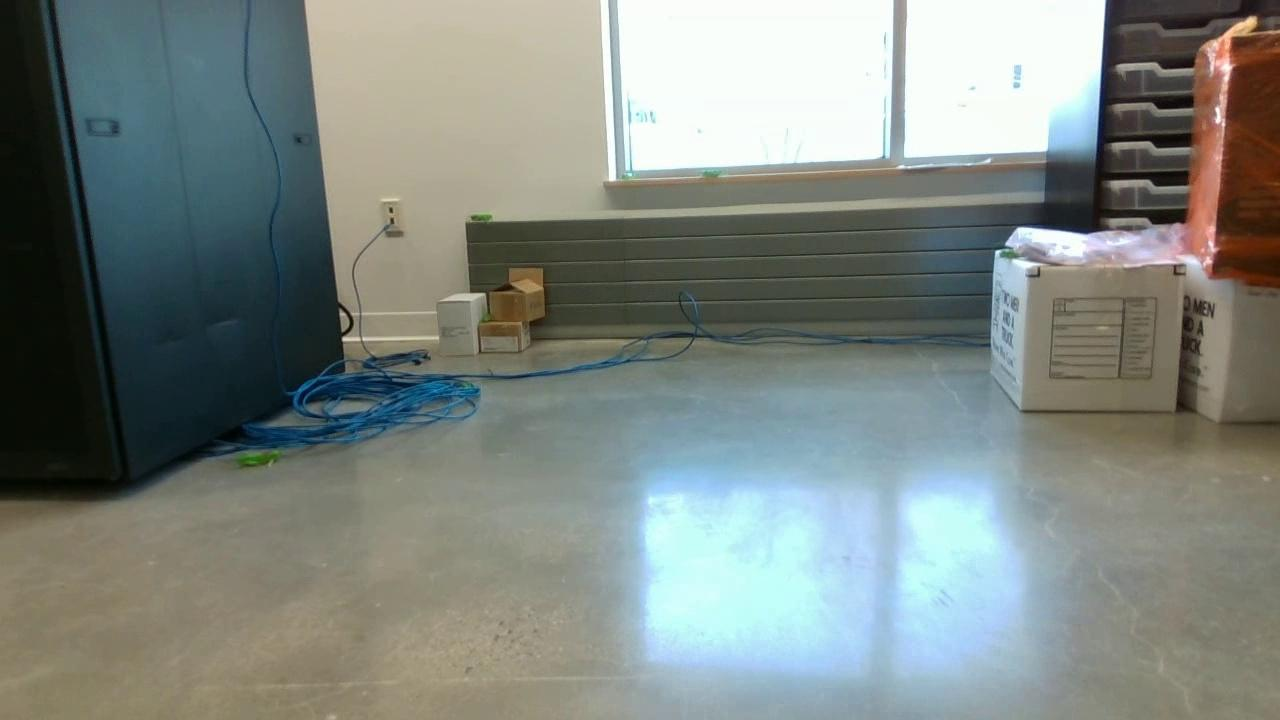grasshopper: (226, 444, 286, 470), (458, 203, 506, 226), (686, 166, 740, 184)
